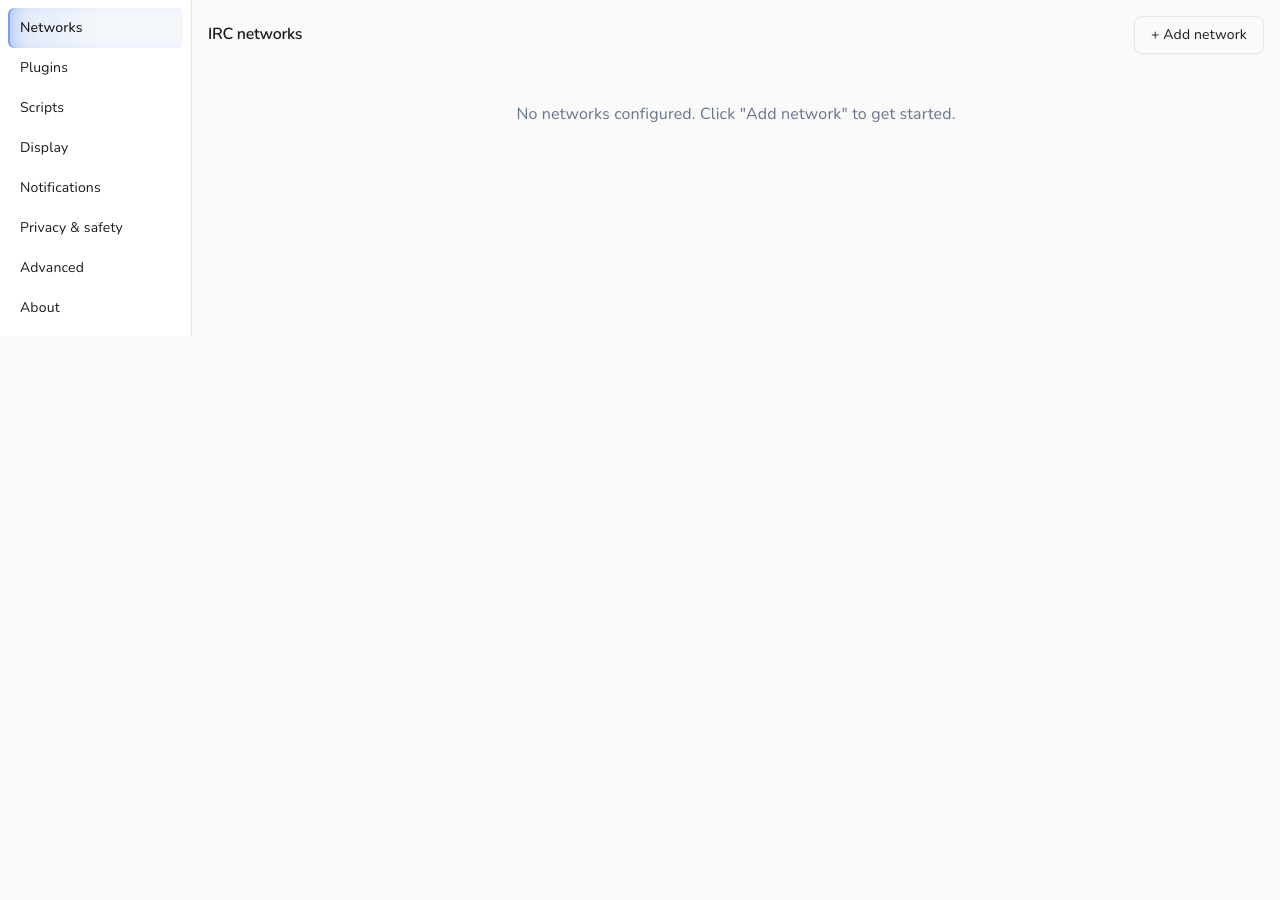
Test: SettingsPanel Networks master-detail › shows the list and hides it once the editor opens
The image size is (1280, 900).
Note: Enter the editor via "Add network".
Click the button with test id "add-network-button" at (1199,35), box left=1134, top=16, right=1264, bottom=54
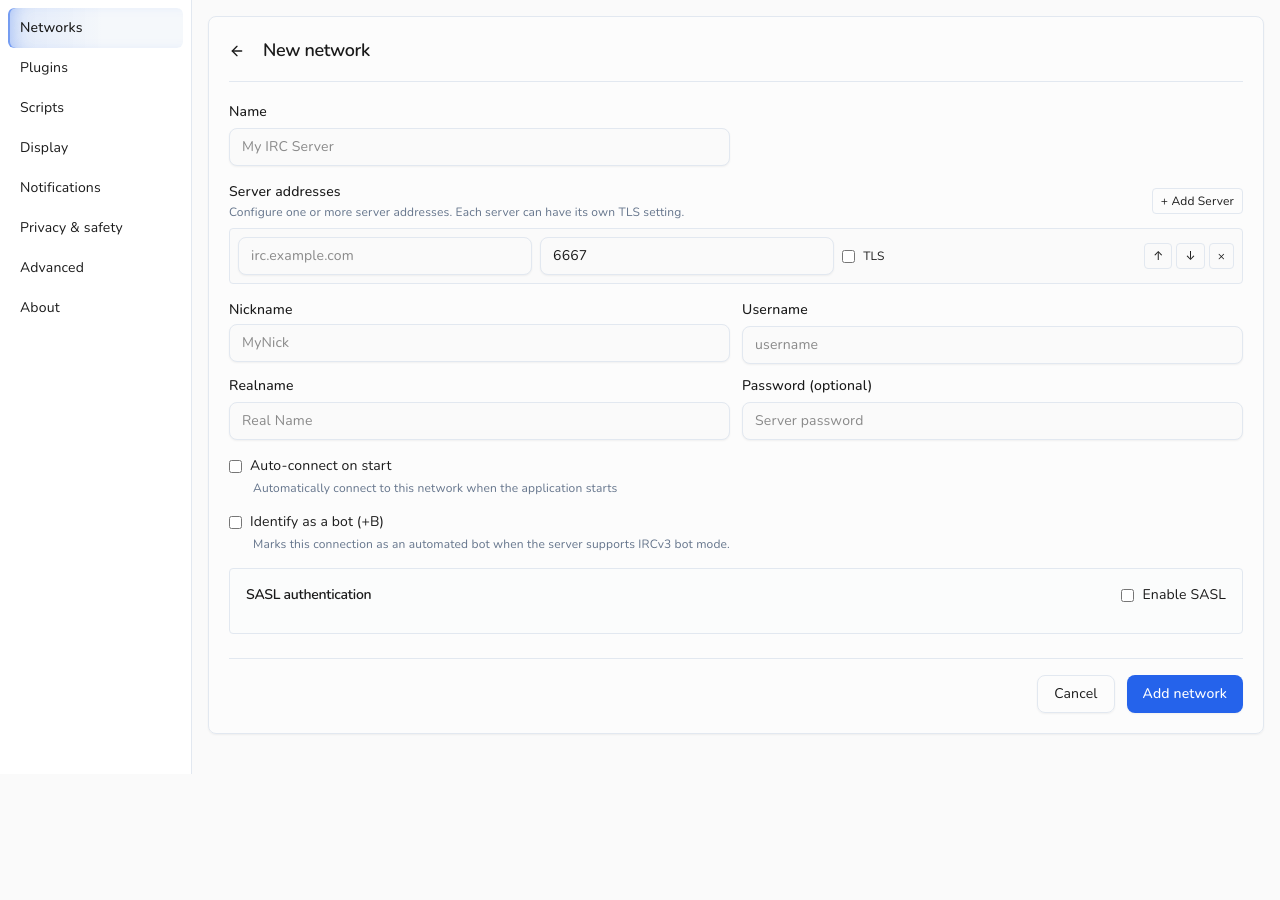
Result: the element with test id "network-editor" is shown
Result: the button with test id "add-network-button" is gone
Result: the element with test id "network-list" is gone
